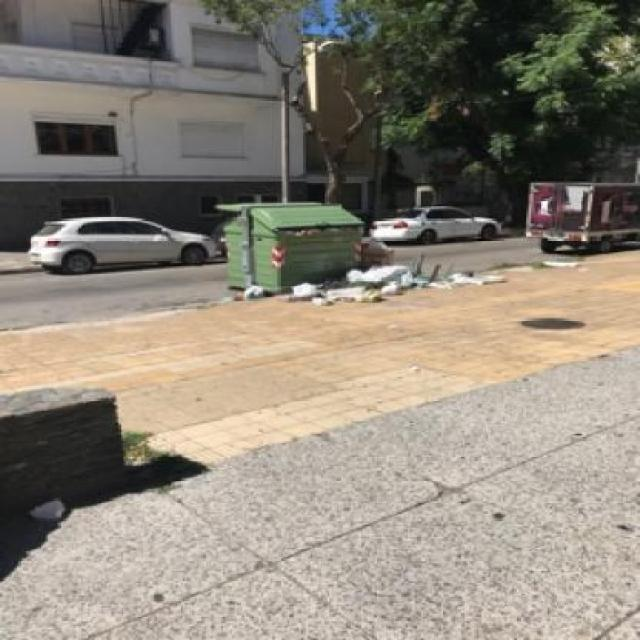garbage: (242, 283, 446, 310), (342, 254, 496, 281), (539, 251, 589, 268)
